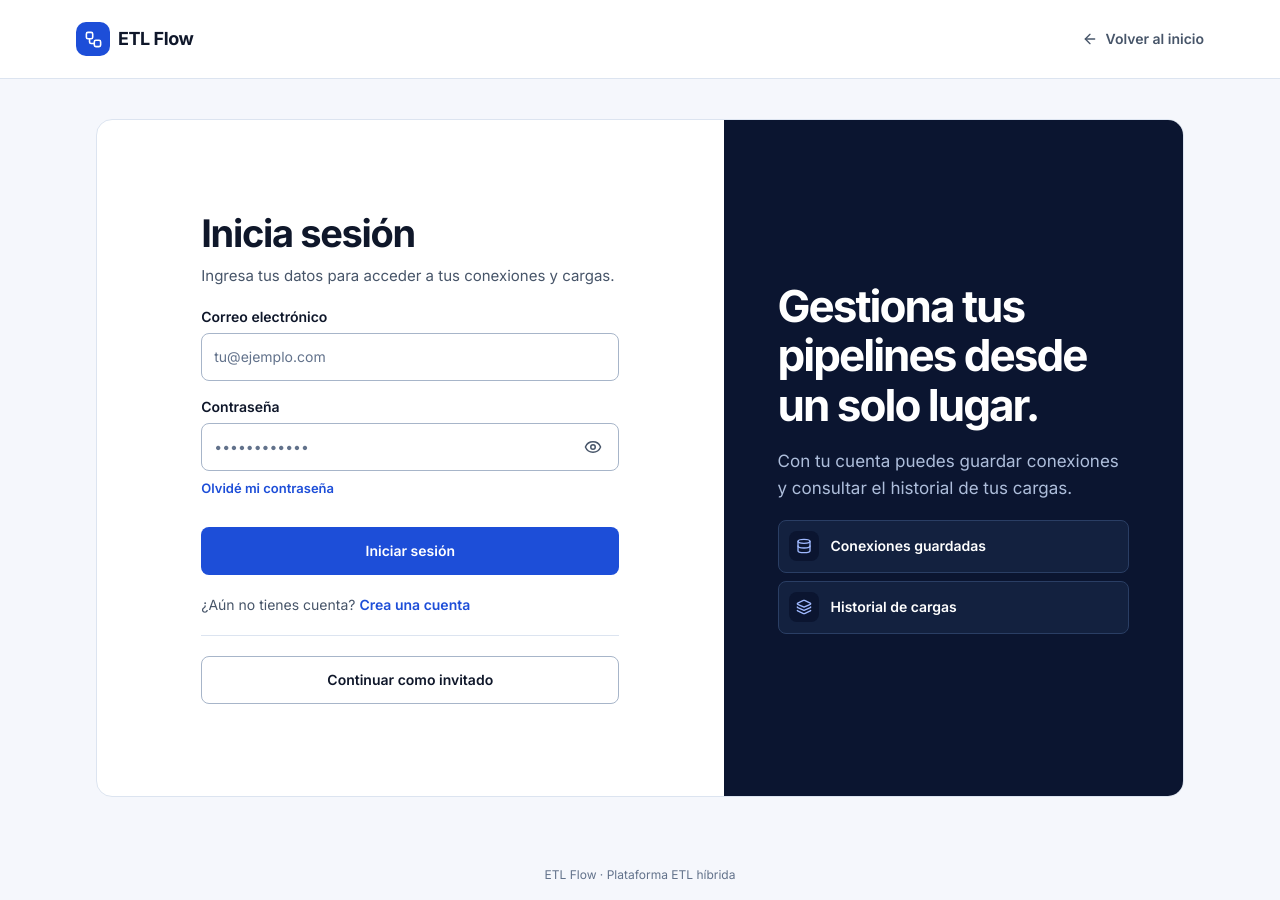
Test: account forms › sanitizes login errors from a response error
This screenshot has width=1280, height=900.
Type "person@example.com" into the field labelled "Correo electrónico" at [410, 357], box [201,333,619,381]
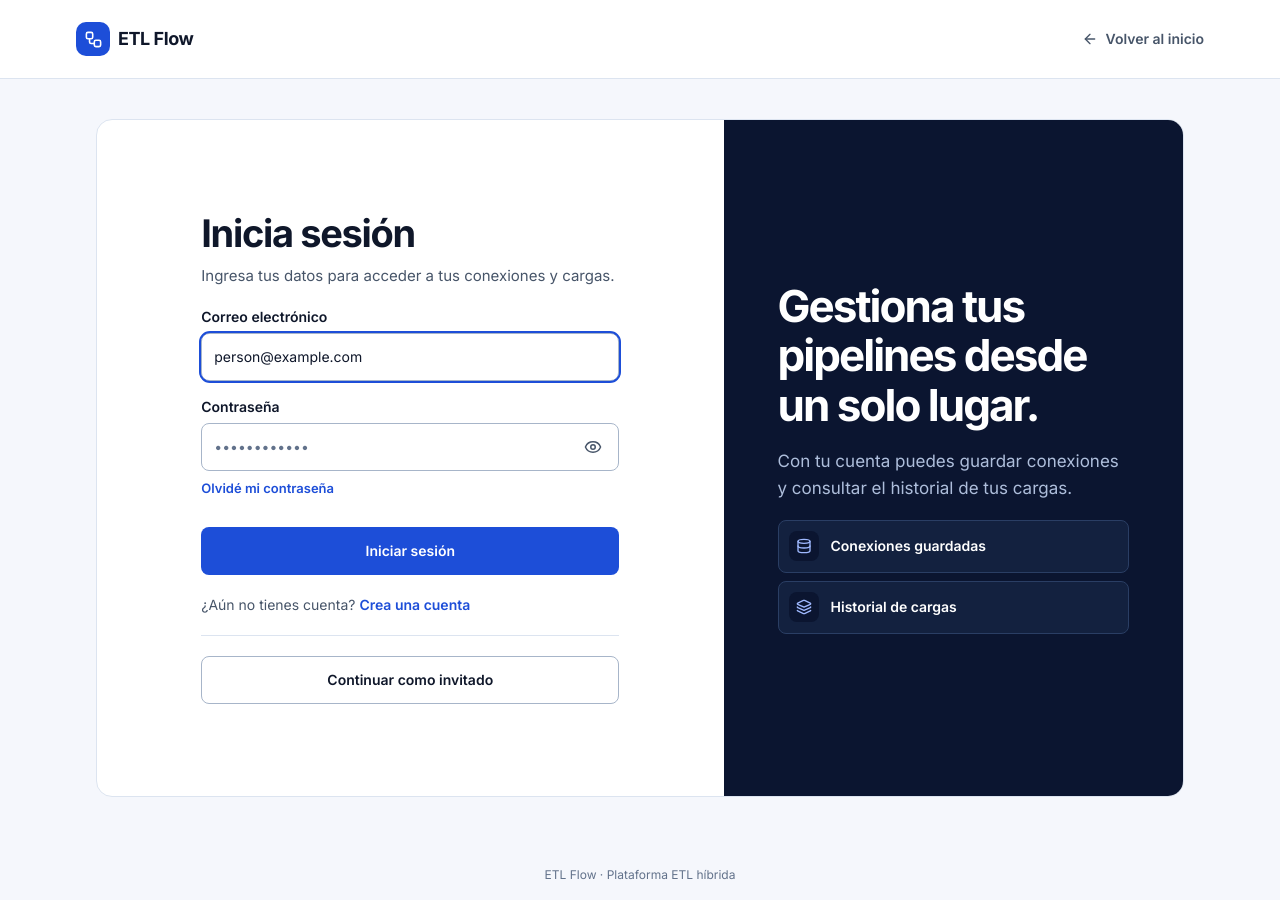
Type "synthetic-passphrase" into the password field labelled "Contraseña" at [410, 447], box [201,423,619,471]
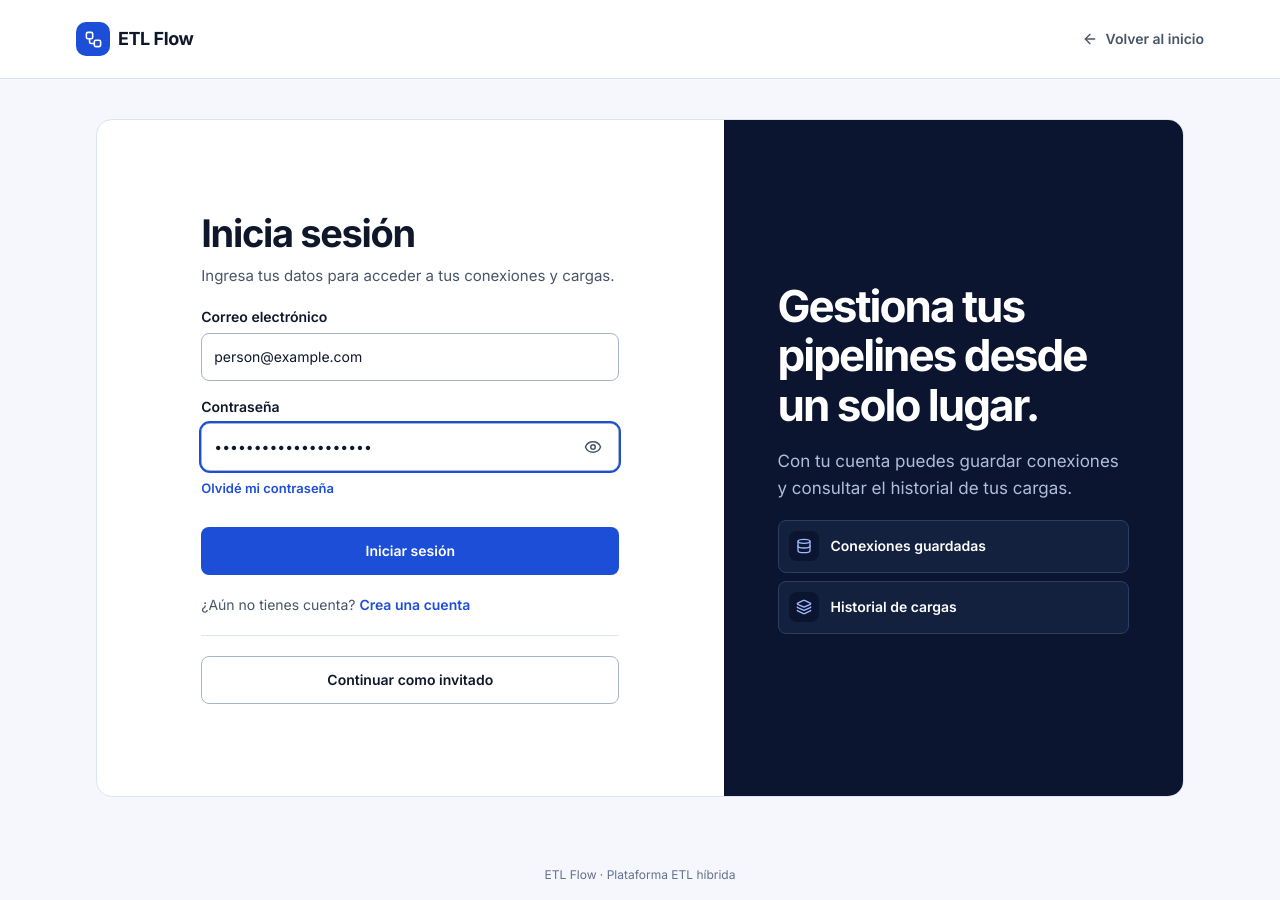
Click the button "Iniciar sesión" at [410, 551], box [201,527,619,575]
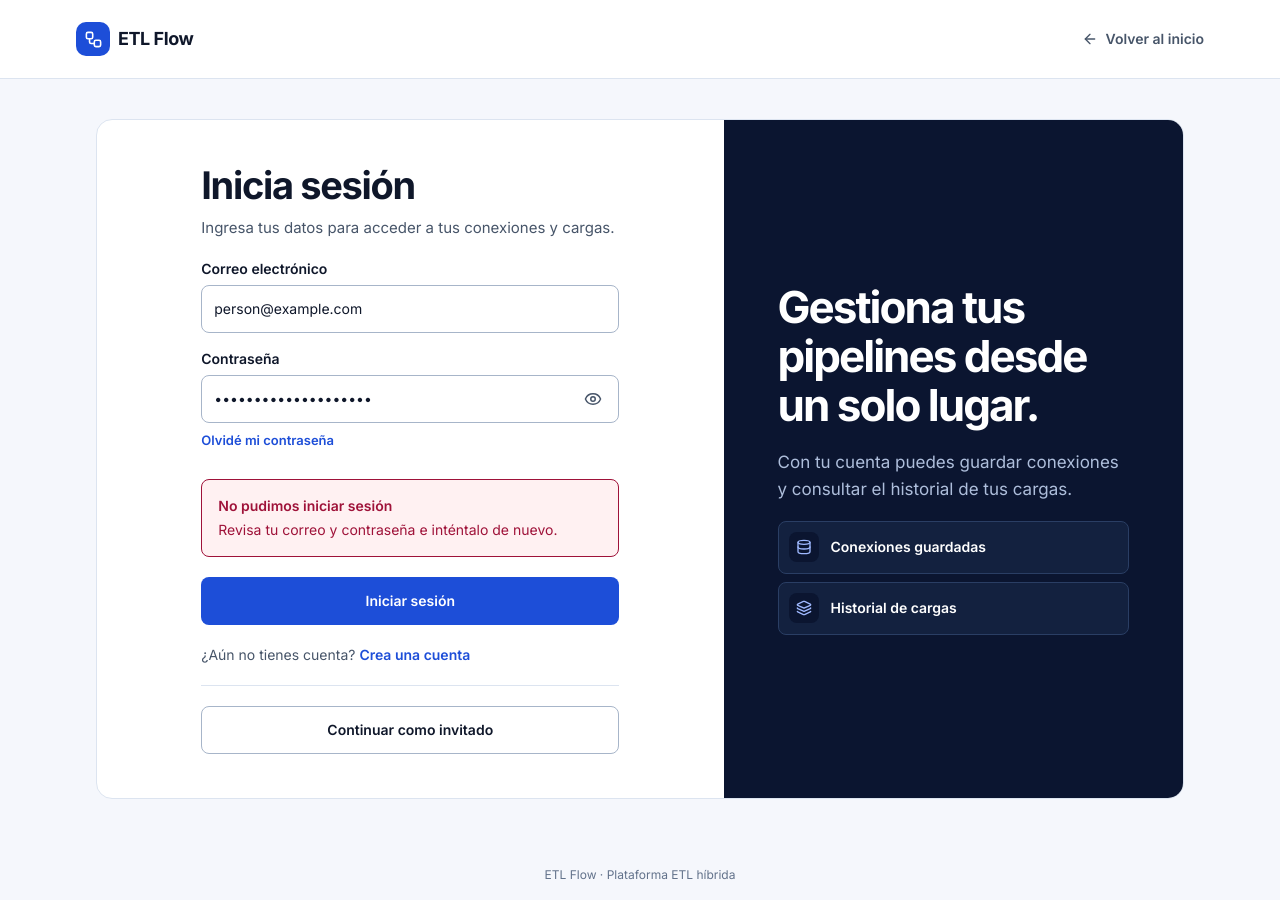
Expected: the message does not show "synthetic-secret", [201,479,619,557]
Expected: the message shows "Revisa tu correo y contraseña", [218,521,558,538]
